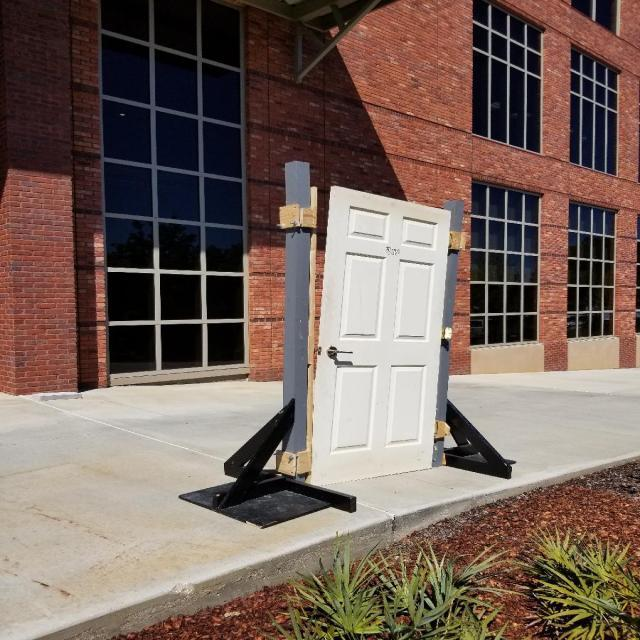door: (298, 182, 452, 492), (324, 344, 356, 361)
